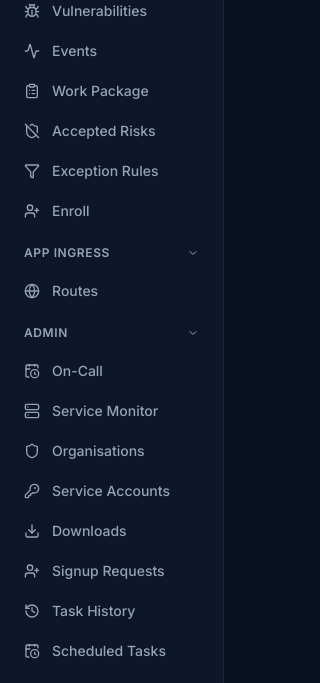
Test: AppSidebar › collapses Admin section items when toggle is clicked
(page scrolled)
expect the link "Service Monitor" is shown: met, box [24,402,158,419]
Click the button "Admin" at (112,333), box [12,317,211,349]
(page scrolled)
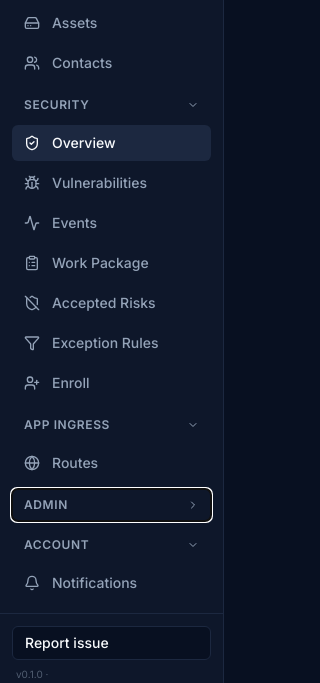
expect the link "Service Monitor" is gone: met
